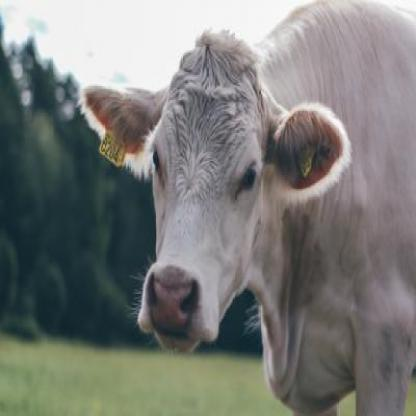lower: (162, 336, 186, 351)
mouth: (138, 265, 219, 356)
upper: (150, 286, 187, 324)
